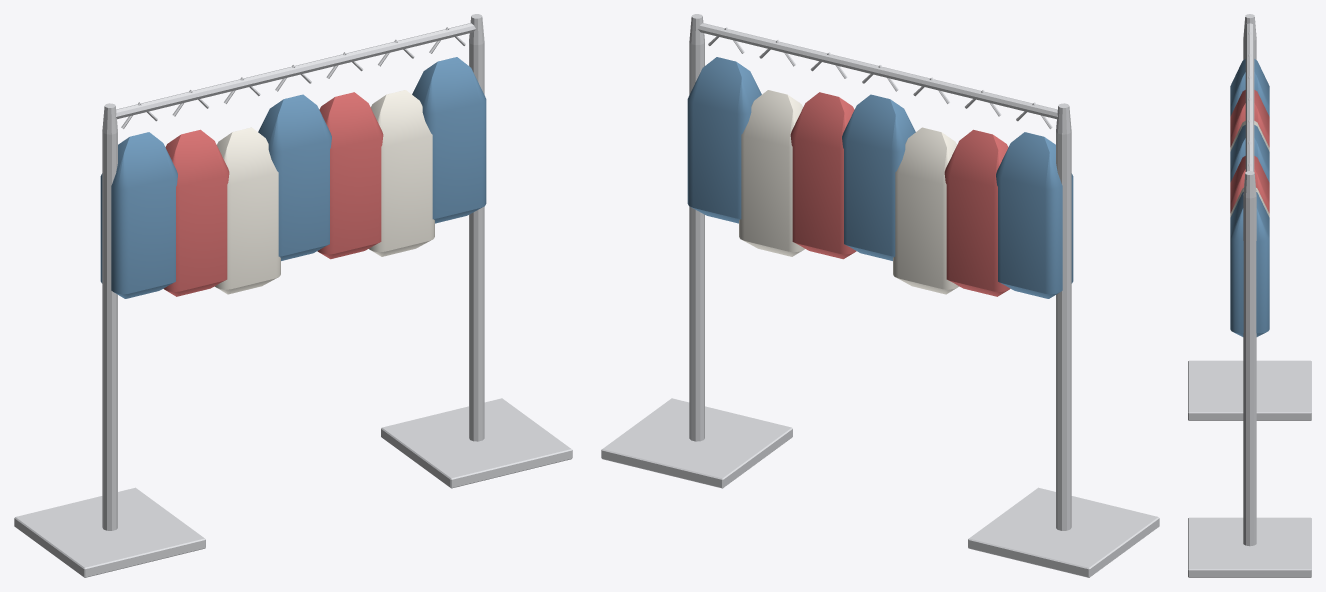
The model's file is indoor-market-hall-and-traders-hanging-stock-rail-d052326c.glb.
The picture shows the model from 3 angles, left to right: view 1: azimuth 30°, elevation 25°; view 2: azimuth 150°, elevation 25°; view 3: azimuth 270°, elevation 25°; orthographic projection. The views are drawn at different scales.
Parts seen in each view (by area): view 1: hanging-stock-rail; view 2: hanging-stock-rail; view 3: hanging-stock-rail.
Part boxes in pixels (x1=…): hanging-stock-rail: x1=14, y1=14, x2=572, y2=577; hanging-stock-rail: x1=601, y1=14, x2=1159, y2=577; hanging-stock-rail: x1=1188, y1=14, x2=1311, y2=577.
Bounding box in the file's own units: 2 × 1.69 × 0.5001.
